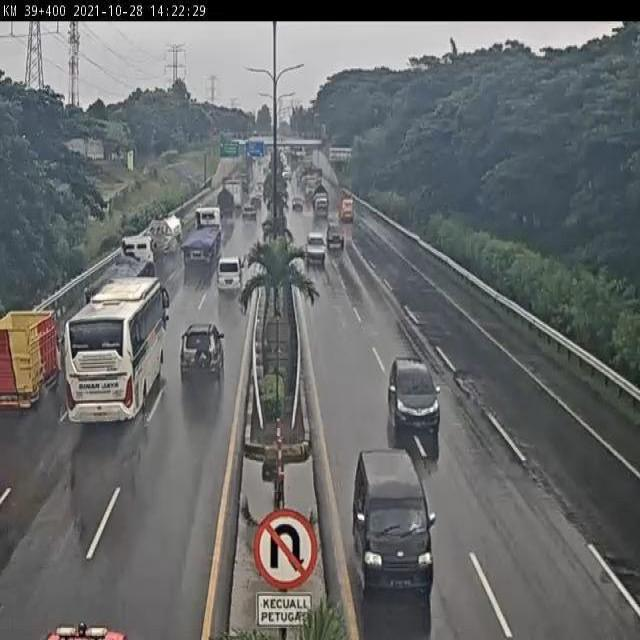car: (348, 448, 446, 613), (378, 345, 445, 444), (174, 323, 225, 387), (215, 254, 246, 298), (303, 228, 327, 265), (326, 221, 347, 247), (241, 212, 263, 231), (248, 192, 263, 213), (251, 186, 264, 206)
truck: (66, 284, 167, 441), (0, 307, 63, 421), (117, 231, 156, 288), (133, 205, 170, 264), (183, 208, 216, 267), (211, 191, 232, 224), (337, 192, 355, 219)
